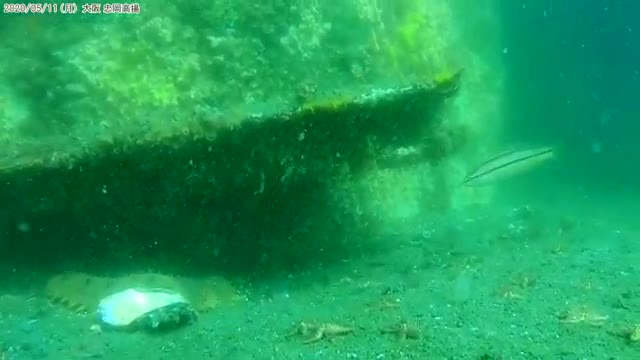bera: (455, 142, 570, 192)
